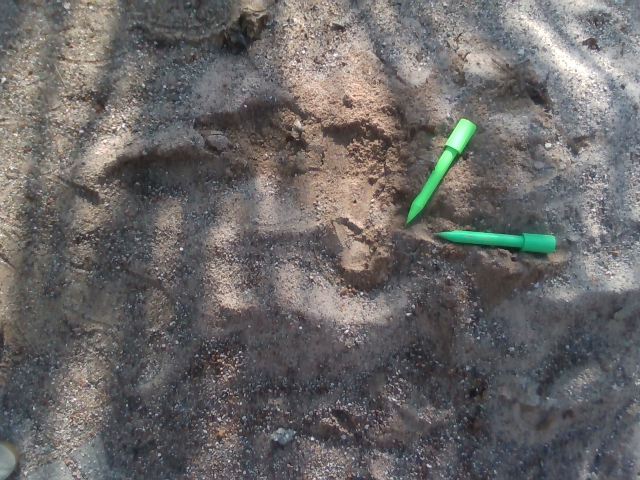Probe: (400, 112, 480, 230), (431, 222, 560, 259)
